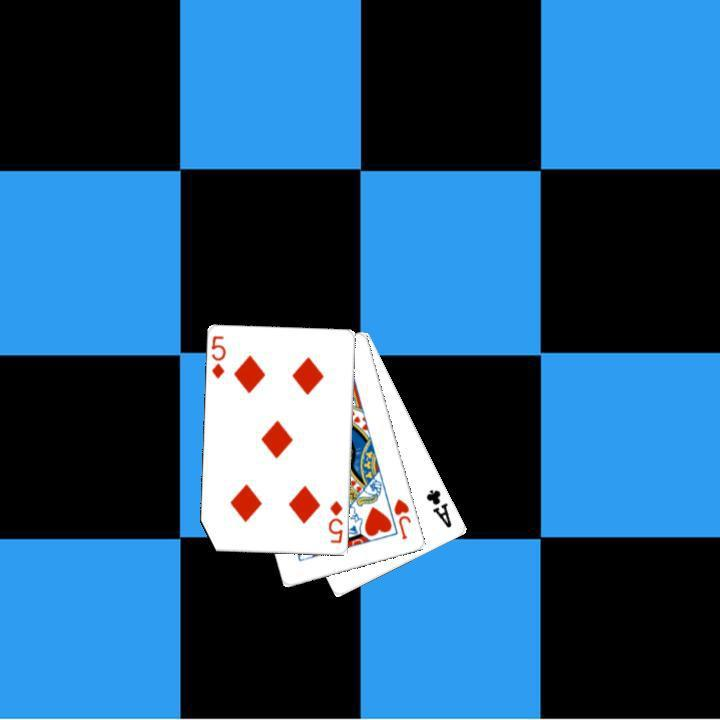5: (207, 332, 228, 381), (324, 497, 345, 545)
A: (422, 485, 454, 530)
J: (390, 495, 413, 542)
